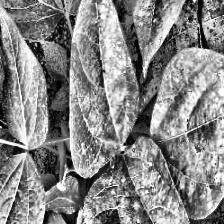Bean Rust: (149, 50, 224, 218), (72, 0, 143, 175), (81, 138, 203, 224), (128, 0, 190, 70)
